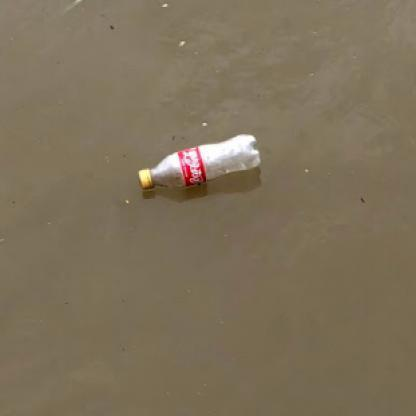plastic bottle: (138, 133, 262, 191)
